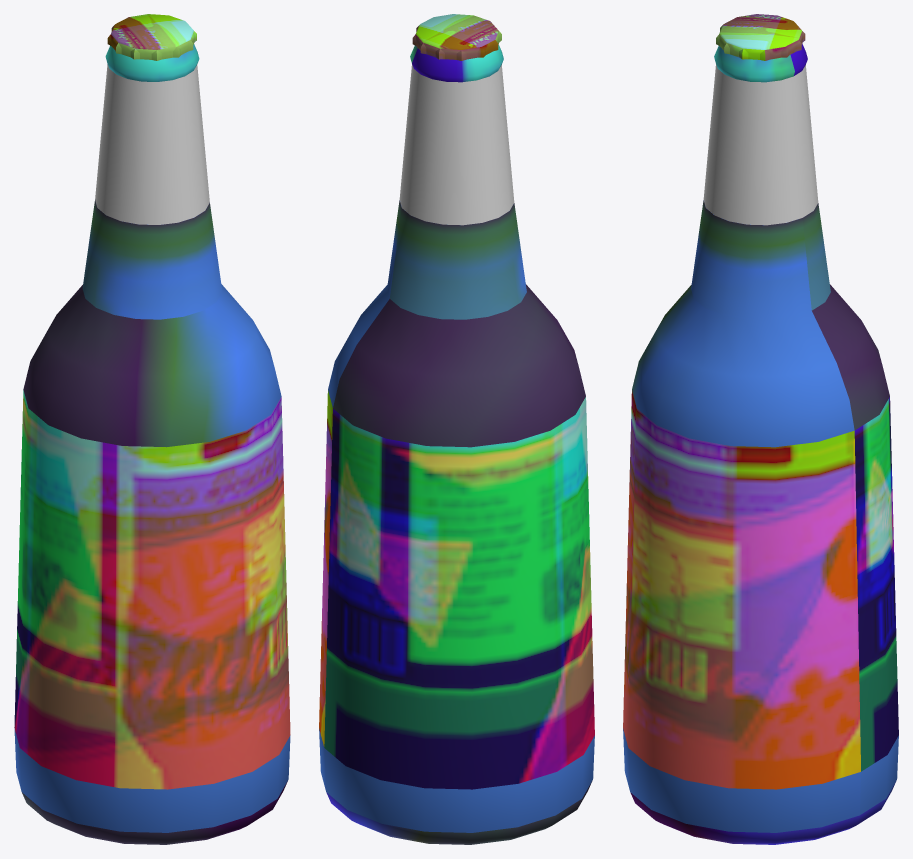
The model's file is Beer_Bottle_HP.fbx.
The picture shows the model from 3 angles, left to right: view 1: azimuth 30°, elevation 25°; view 2: azimuth 150°, elevation 25°; view 3: azimuth 270°, elevation 25°; orthographic projection.
Parts seen in each view (by area): view 1: Beer_Bottle_HP; view 2: Beer_Bottle_HP; view 3: Beer_Bottle_HP.
Part boxes in pixels (box(x1,y1,x2,y2)): Beer_Bottle_HP: box(14, 14, 290, 844); Beer_Bottle_HP: box(319, 14, 594, 844); Beer_Bottle_HP: box(623, 14, 898, 844).
Size of the model in its own units: 0.1453 by 0.4466 by 0.146.
